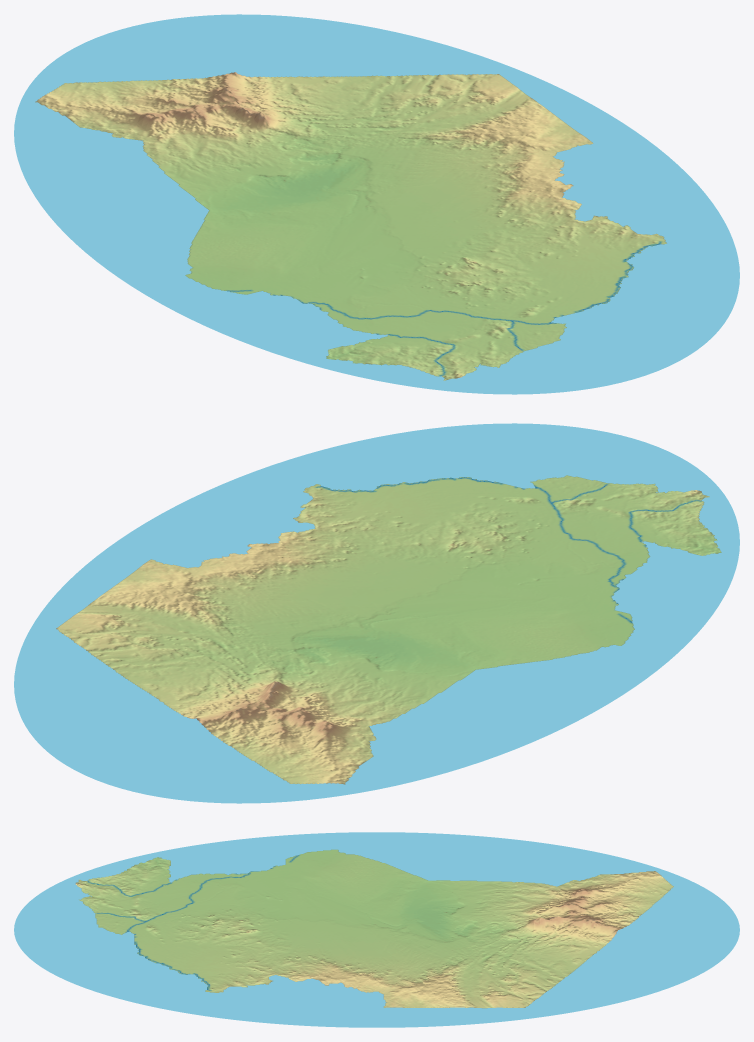
Rendered from TCD-terrain.glb.
3 renders of one model, top to bottom at view 1: azimuth 30°, elevation 25°; view 2: azimuth 150°, elevation 25°; view 3: azimuth 270°, elevation 25°, orthographic. The views are drawn at different scales.
Parts seen in each view (by area): view 1: Relevo com hidrografia; view 2: Relevo com hidrografia; view 3: Relevo com hidrografia.
Part boxes in pixels (bbox=[...]): Relevo com hidrografia: bbox=[14, 14, 739, 394]; Relevo com hidrografia: bbox=[14, 423, 739, 803]; Relevo com hidrografia: bbox=[14, 832, 739, 1027].
Size of the model in its own units: 1.24 by 0.031 by 1.95.
2 materials, 1 textured.
